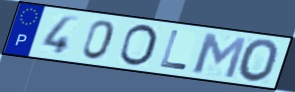0: (81, 19, 117, 61)
4: (39, 14, 77, 57)
L: (157, 29, 189, 72)
M: (192, 31, 250, 80)
O: (236, 38, 281, 84), (116, 23, 160, 68)
